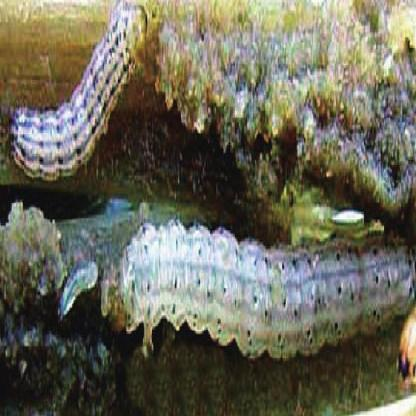whorl-maggot: (117, 190, 416, 383), (10, 0, 162, 186)
